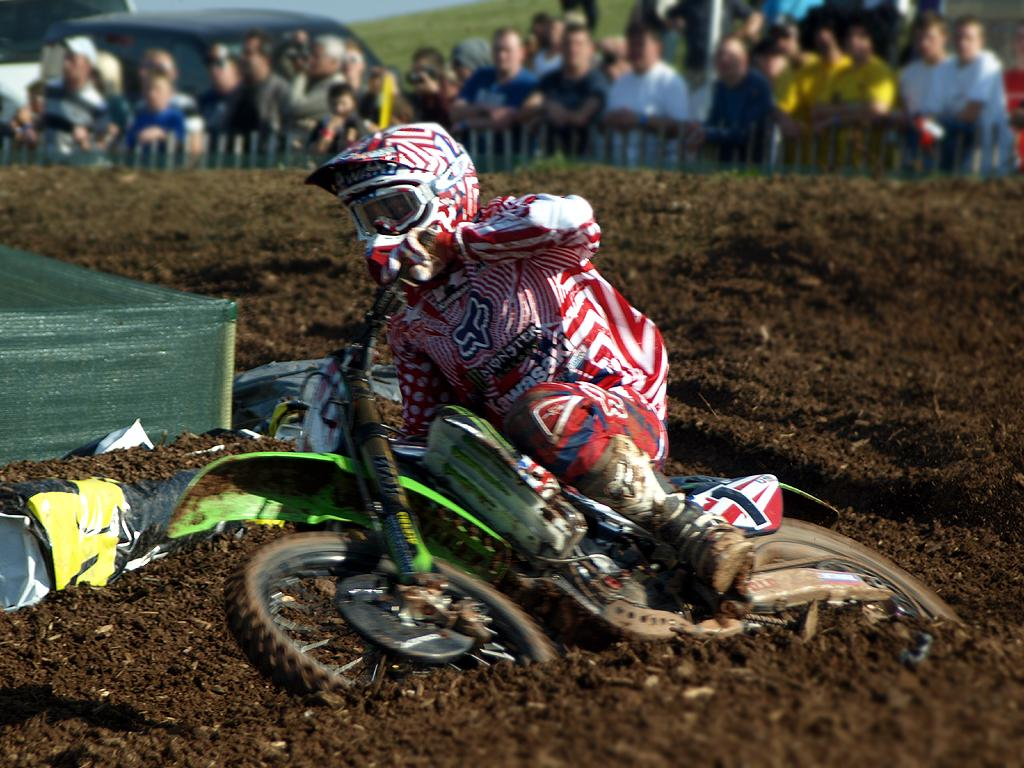helmet: (303, 122, 481, 290)
nohelmet: (449, 35, 495, 90), (203, 36, 245, 95), (838, 10, 882, 64), (624, 19, 664, 77), (60, 32, 100, 87), (239, 30, 277, 85), (913, 9, 950, 65), (305, 32, 346, 81), (715, 34, 750, 90), (491, 25, 528, 77), (559, 22, 596, 73), (951, 15, 986, 66), (767, 21, 802, 65), (325, 80, 358, 124), (142, 72, 176, 114)
